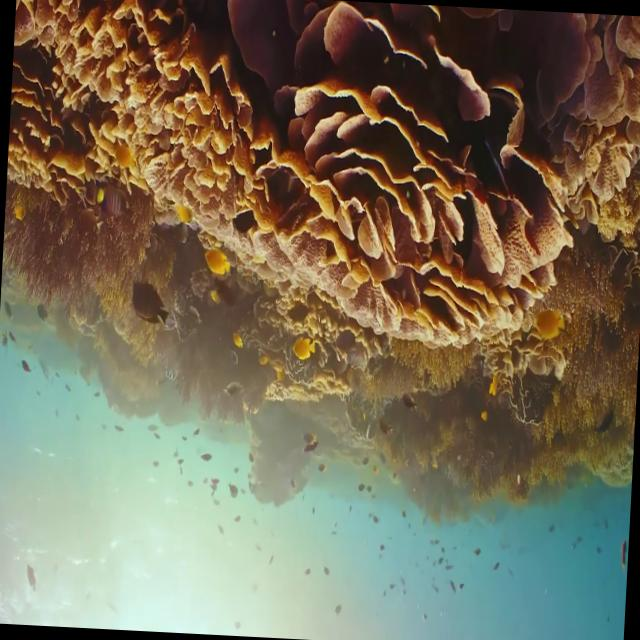fish: (130, 274, 172, 327), (94, 182, 142, 224), (200, 244, 236, 280), (288, 331, 320, 364)
